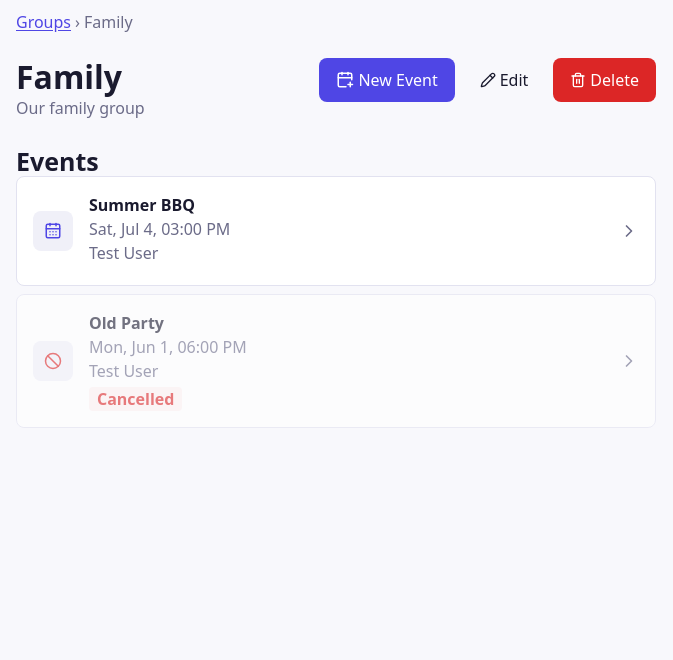
Scenario: GroupDetail › shows a confirmation section when Delete is clicked
Click the button with aria-label "delete group": [605, 80] box [553,58,656,102]
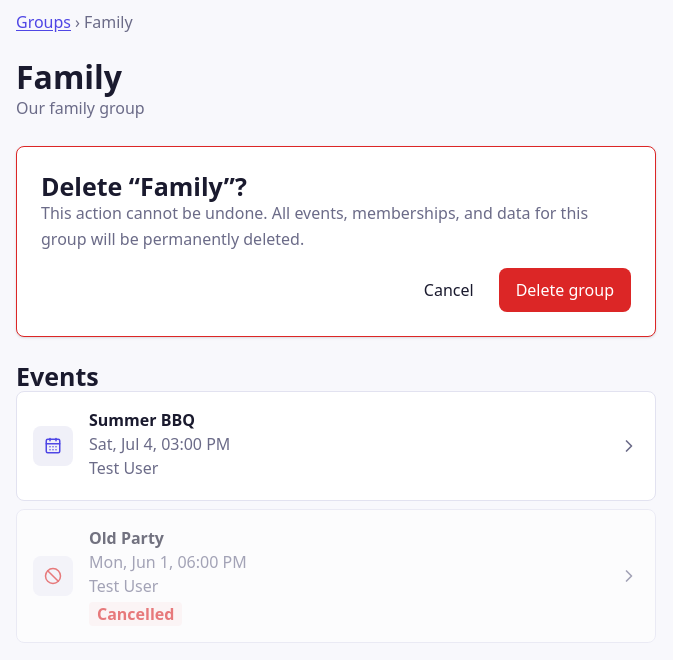
Result: the text "This action cannot be undone" is shown at [41,202,588,250]
